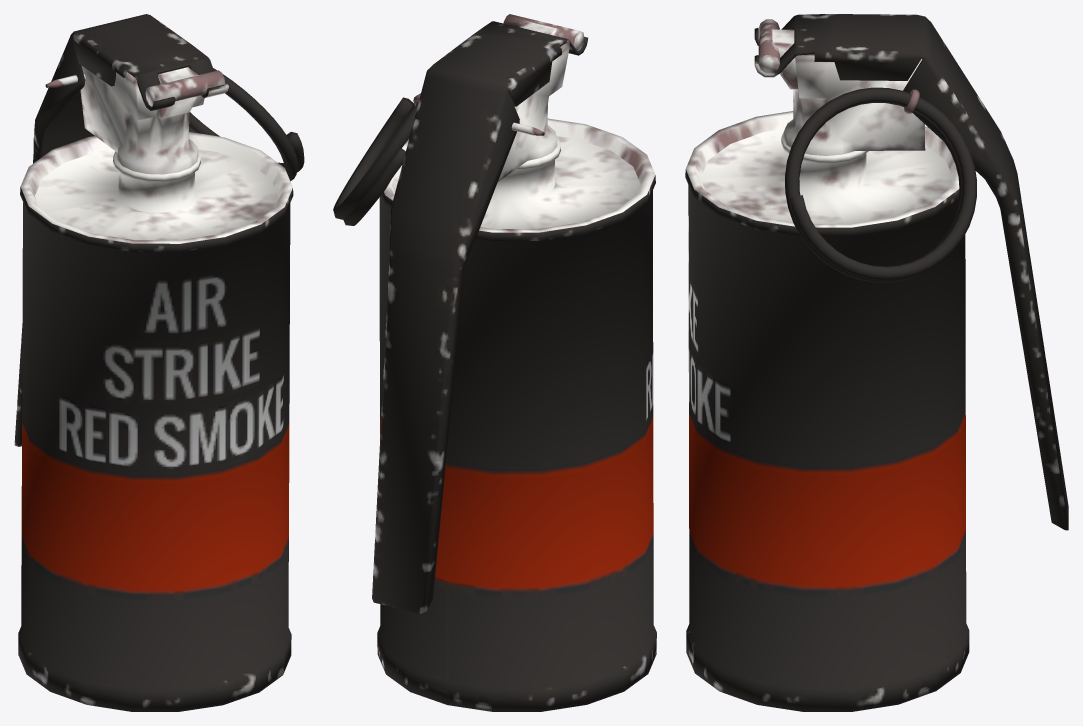
Rendered from Weapons_Grenades_AirStrikeGrenade_LOD0.glb.
3 views of the same model, side by side, from view 1: azimuth 30°, elevation 25°; view 2: azimuth 150°, elevation 25°; view 3: azimuth 270°, elevation 25° (orthographic). The views are drawn at different scales.
Parts seen in each view (by area): view 1: Hoodie; view 2: Hoodie; view 3: Hoodie.
Part boxes in pixels (bbox=[...]): Hoodie: bbox=[14, 14, 304, 711]; Hoodie: bbox=[333, 14, 656, 711]; Hoodie: bbox=[685, 14, 1068, 711].
Size of the model in its own units: 0.0625 by 0.1354 by 0.0757.
Materials: 1 (1 with a texture image).
